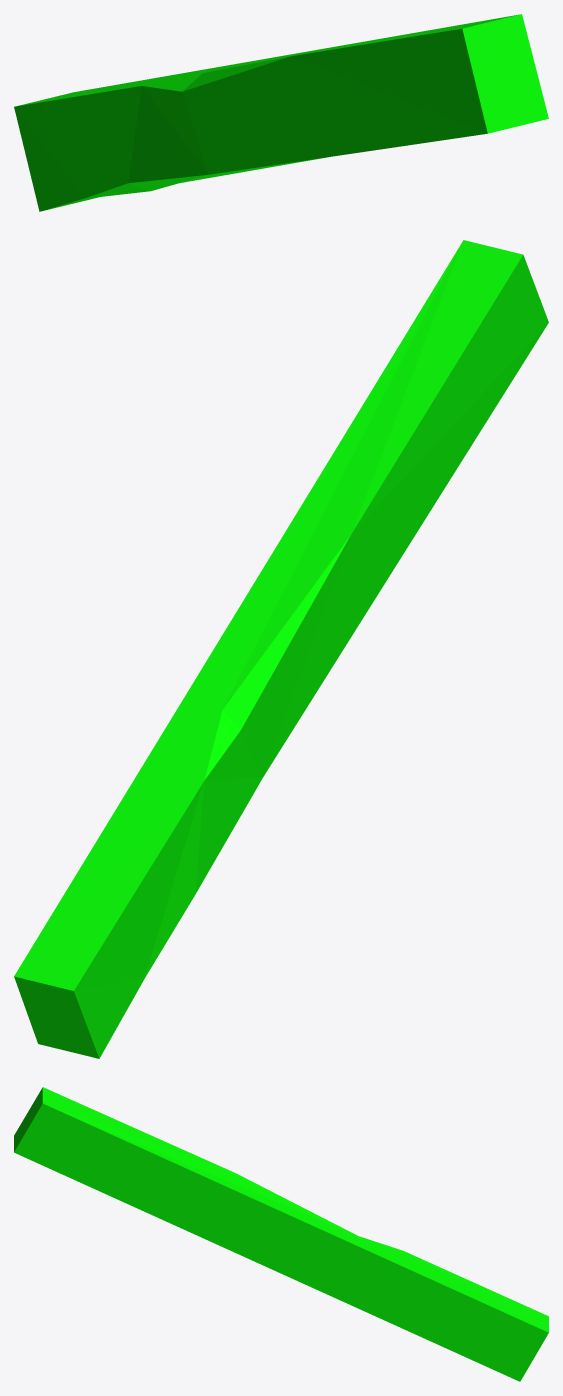
Rendered from SM_Roof_Moderate_Truss_Wood_Diagonal_2m.fbx.
3 views of the same model, one above another, from view 1: azimuth 30°, elevation 25°; view 2: azimuth 150°, elevation 25°; view 3: azimuth 270°, elevation 25° (orthographic). The views are drawn at different scales.
Parts seen in each view (by area): view 1: roof-moderate-truss-wood-diagonal-2m; view 2: roof-moderate-truss-wood-diagonal-2m; view 3: roof-moderate-truss-wood-diagonal-2m.
Part boxes in pixels (x1,y1,x2,y2): roof-moderate-truss-wood-diagonal-2m: [14, 14, 548, 211]; roof-moderate-truss-wood-diagonal-2m: [14, 240, 548, 1058]; roof-moderate-truss-wood-diagonal-2m: [14, 1087, 548, 1381].
Size of the model in its own units: 0.1662 by 1.21 by 2.11.
